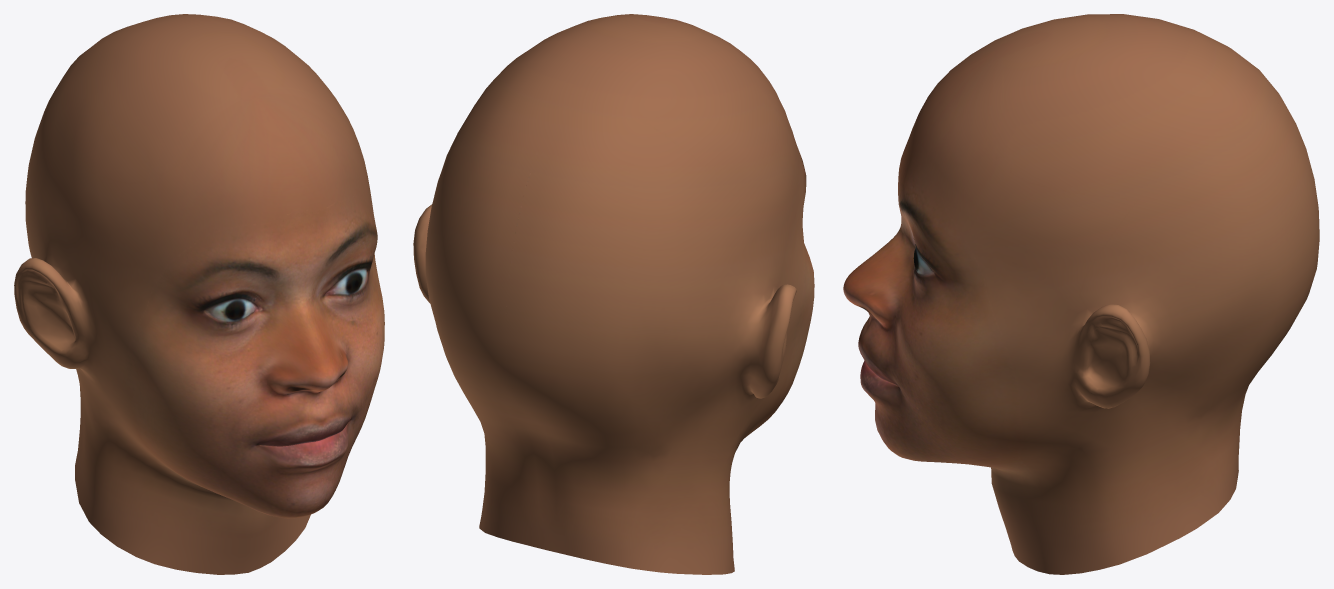
File: v332_obj_ModifierEarsOut.obj
The picture shows the model from 3 angles, left to right: view 1: azimuth 30°, elevation 25°; view 2: azimuth 150°, elevation 25°; view 3: azimuth 270°, elevation 25°; orthographic projection. The views are drawn at different scales.
Parts seen in each view (by area): view 1: HeadHires; view 2: HeadHires; view 3: HeadHires.
Part boxes in pixels (bbox=[...]): HeadHires: bbox=[14, 14, 384, 574]; HeadHires: bbox=[413, 14, 814, 574]; HeadHires: bbox=[843, 14, 1319, 574].
Size of the model in its own units: 202 by 282 by 233.
